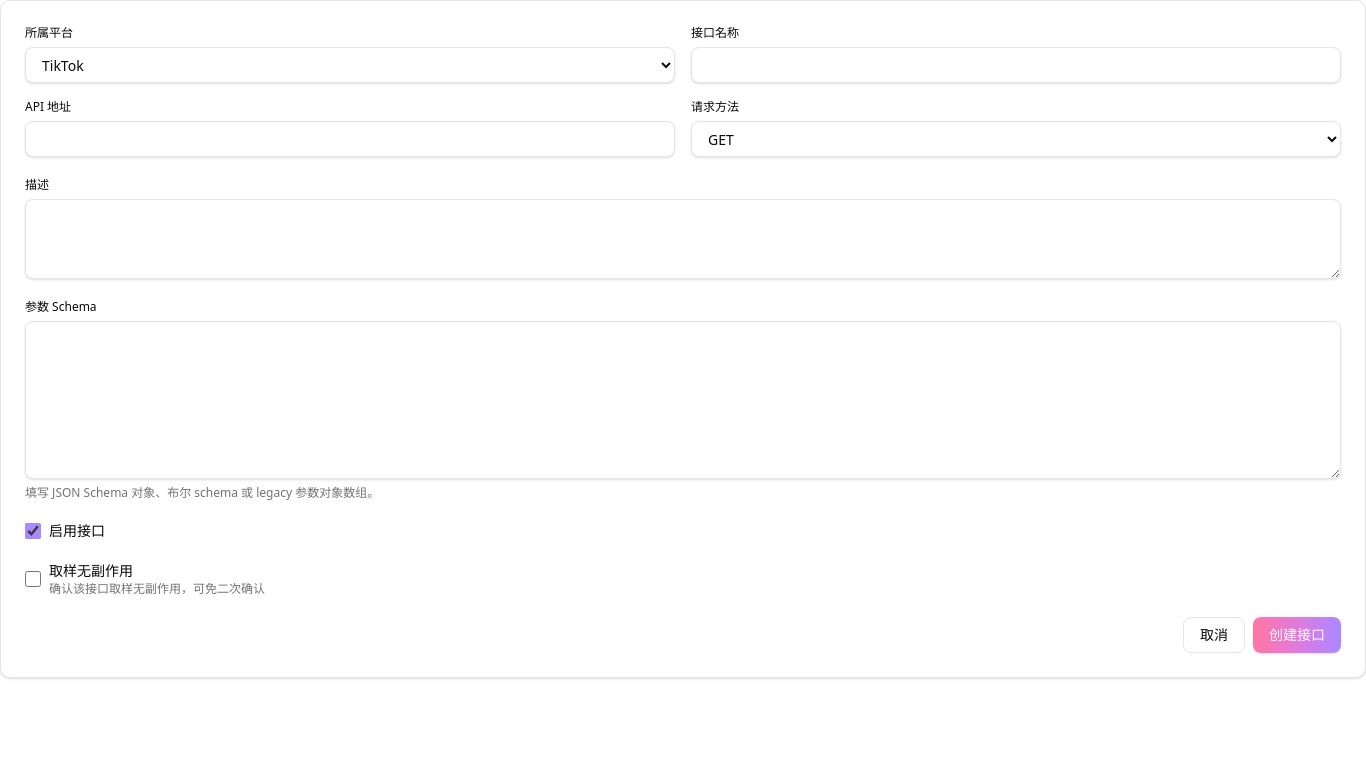
Test: ActionForm › 拒绝不支持的参数 Schema：["raw"]
Type "getUser" into the field labelled "接口名称" at [1016, 65], box [691,47,1341,83]
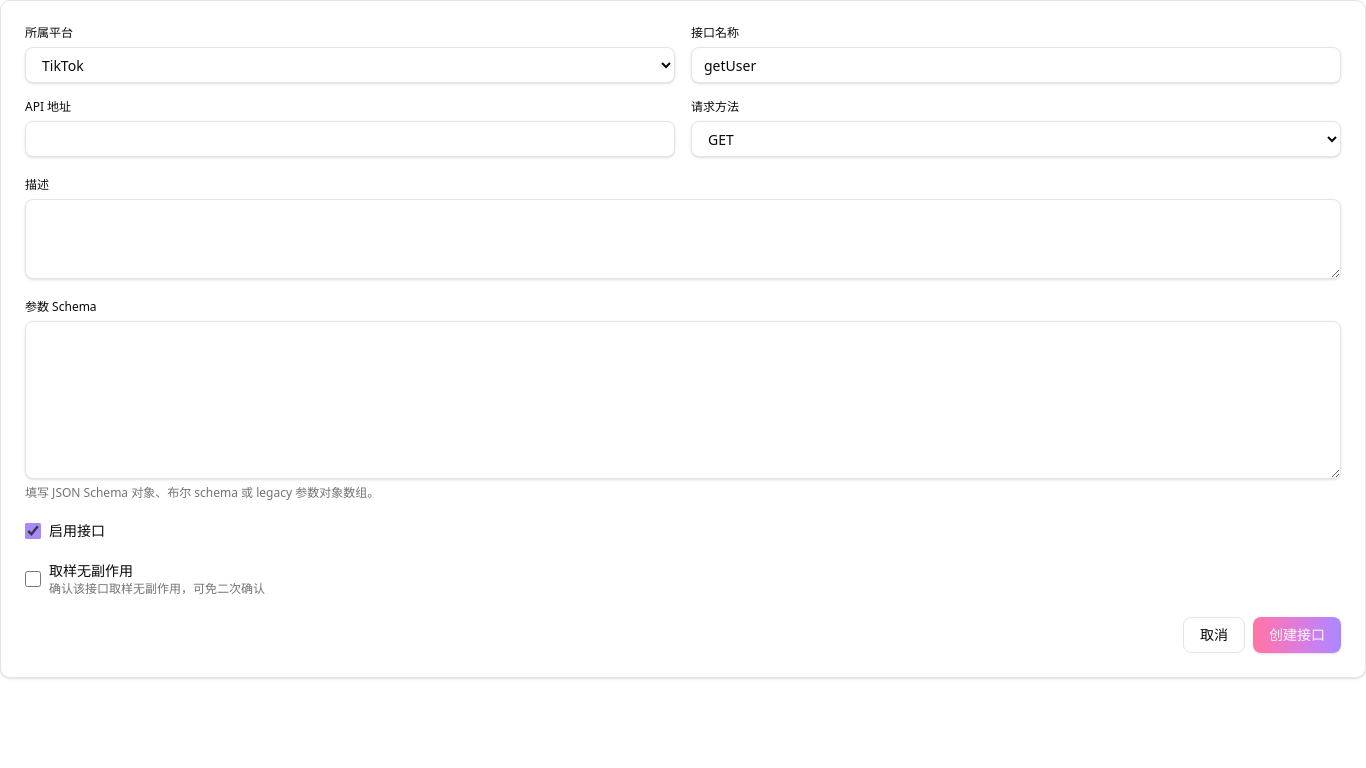
Type "[\"raw\"]" into the text box labelled "参数 Schema" at [683, 400], box [25,321,1341,479]
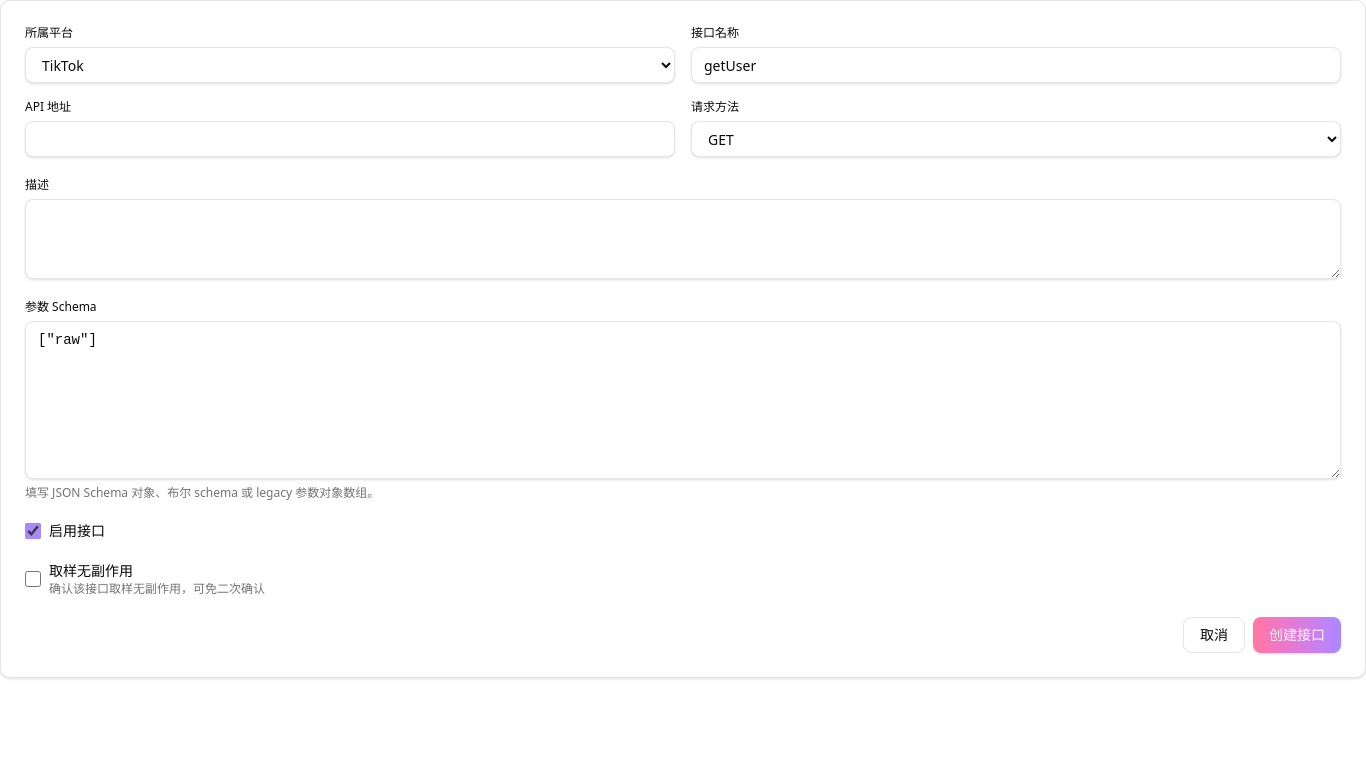
Submit the form named "创建接口"
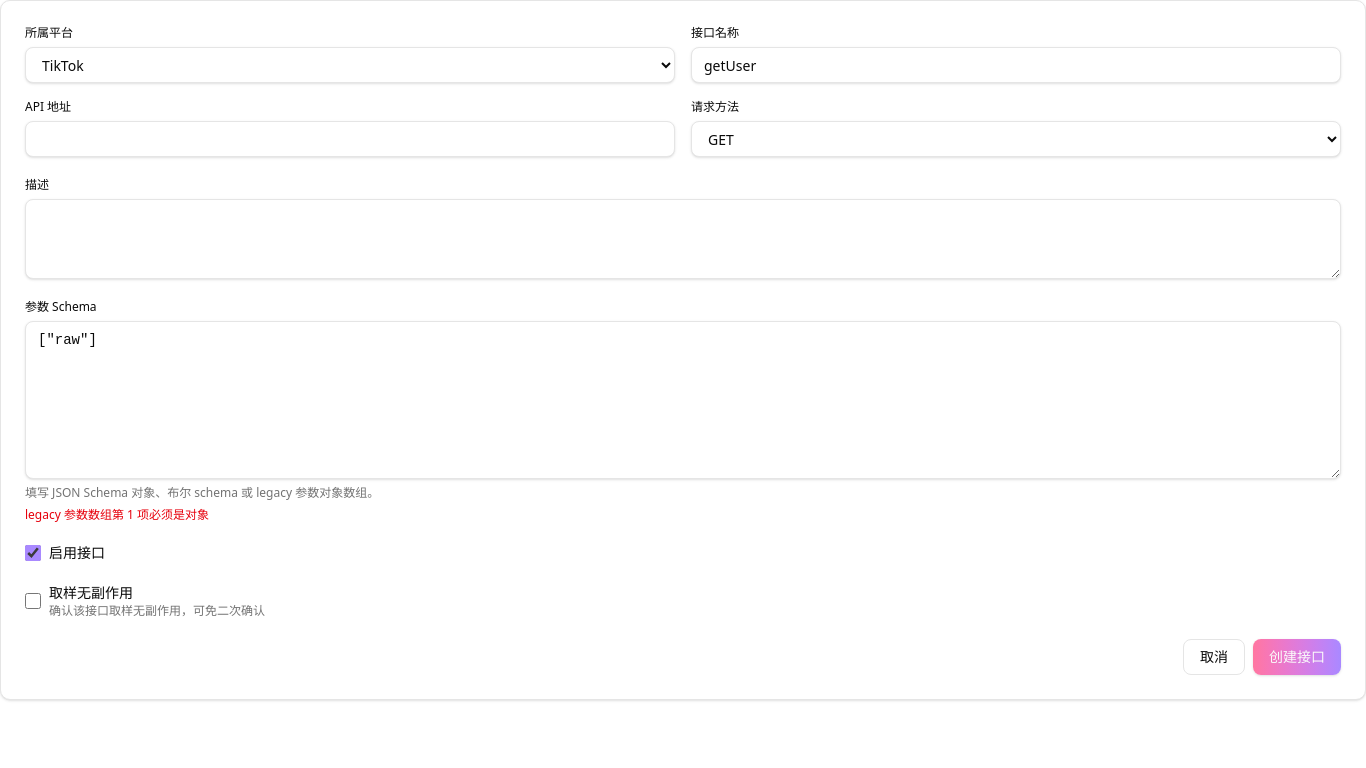
Expected: the text "legacy 参数数组第 1 项必须是对象" is shown, [25,506,209,523]
